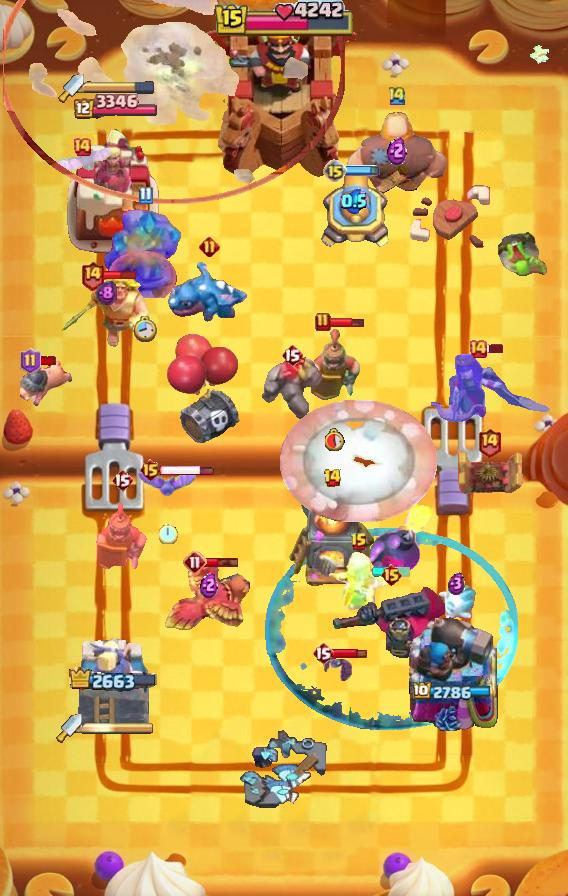baby-dragon: (367, 502, 439, 576)
balloon: (344, 110, 450, 200)
bar: (64, 124, 164, 256), (77, 637, 151, 731)
bar-level: (497, 231, 551, 279)
barbarian: (50, 146, 114, 174), (136, 472, 200, 498)
barbarian-barrel: (322, 652, 354, 682)
barbarian-hut: (431, 352, 553, 422)
bat: (435, 583, 477, 625)
cannoneer-tower: (100, 208, 190, 298)
clock: (213, 0, 355, 40)
earthquake: (94, 497, 150, 573), (310, 326, 360, 402)
electro-spirit: (341, 188, 367, 214), (387, 135, 407, 165), (96, 280, 117, 306), (200, 571, 218, 598), (447, 573, 465, 596)
elixir: (133, 317, 157, 344), (325, 428, 345, 451), (159, 522, 178, 544)
emote: (161, 464, 216, 477), (329, 315, 365, 329), (204, 556, 240, 568), (103, 269, 138, 281), (332, 647, 367, 659), (344, 164, 380, 175), (38, 355, 58, 367), (485, 343, 505, 354)
executioner: (20, 359, 72, 409)
goblin-brawler: (454, 448, 524, 498)
goblin-hut: (59, 271, 153, 349)
graveyard: (167, 260, 251, 324)
hunter: (288, 479, 376, 589)
ice-spirit: (371, 567, 411, 577)
inferno-tower: (330, 587, 452, 677)
king-tower: (205, 11, 363, 181)
king-tower-bar: (84, 80, 156, 94), (82, 721, 154, 735)
mother-witch: (161, 559, 257, 635)
pad_0: (264, 528, 518, 734)
poison: (323, 551, 395, 627)
royal-ghost: (3, 0, 345, 204)
royal-recruit: (316, 172, 392, 252)
royal-recruit-evolution: (165, 331, 243, 447)
selected: (69, 667, 159, 694), (71, 95, 157, 122), (413, 682, 493, 702)
text: (80, 261, 105, 292), (477, 427, 502, 458), (323, 159, 347, 183), (183, 550, 207, 574), (139, 458, 162, 482), (381, 563, 404, 587), (20, 348, 41, 374), (281, 343, 303, 367), (111, 468, 133, 492), (312, 641, 334, 665), (199, 236, 220, 257), (387, 85, 407, 107), (72, 137, 92, 157), (468, 339, 488, 359), (322, 468, 342, 488), (350, 532, 368, 552), (315, 312, 331, 332), (138, 187, 153, 205)
tower-bar: (407, 611, 499, 731)
valkyrie-evolution: (258, 355, 326, 425)
wall-breaker: (280, 400, 438, 522)
